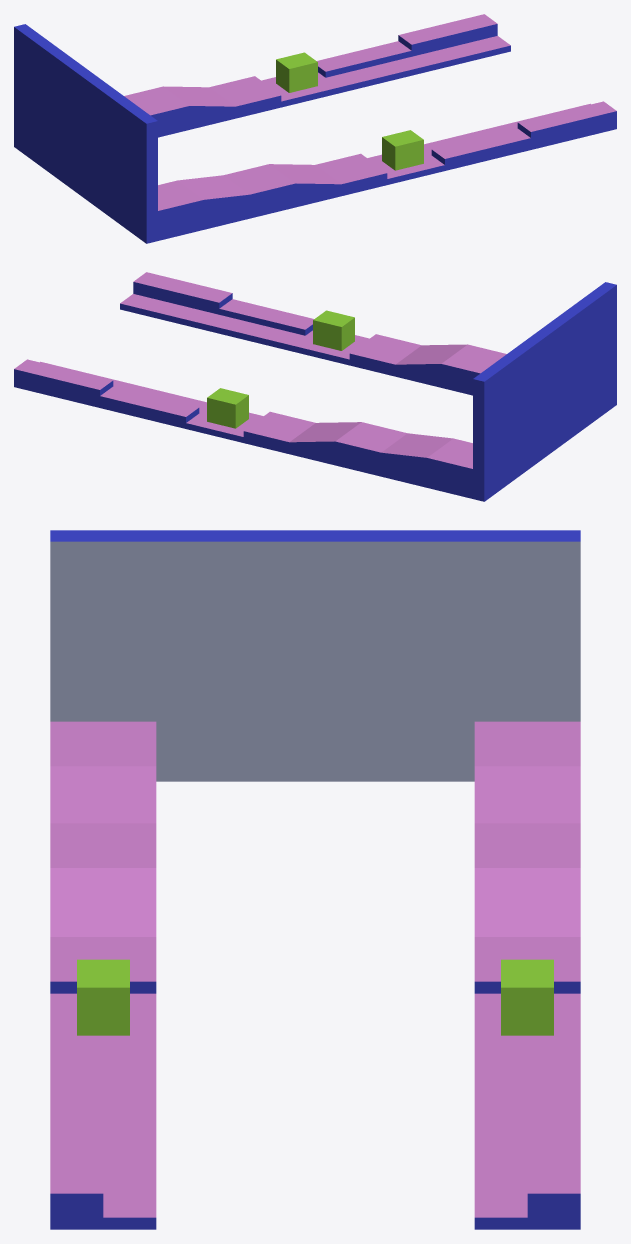
Rendered from enfoMap.fbx.
3 views of the same model, one above another, from view 1: azimuth 30°, elevation 25°; view 2: azimuth 150°, elevation 25°; view 3: azimuth 270°, elevation 25° (orthographic). The views are drawn at different scales.
Parts seen in each view (by area): view 1: Plane; view 2: Plane; view 3: Plane.
Boxes of the visible parts, bbox=[...] form: Plane: bbox=[14, 14, 616, 243]; Plane: bbox=[14, 272, 616, 501]; Plane: bbox=[50, 530, 580, 1229].
Size of the model in its own units: 4100 by 1000 by 2000.
